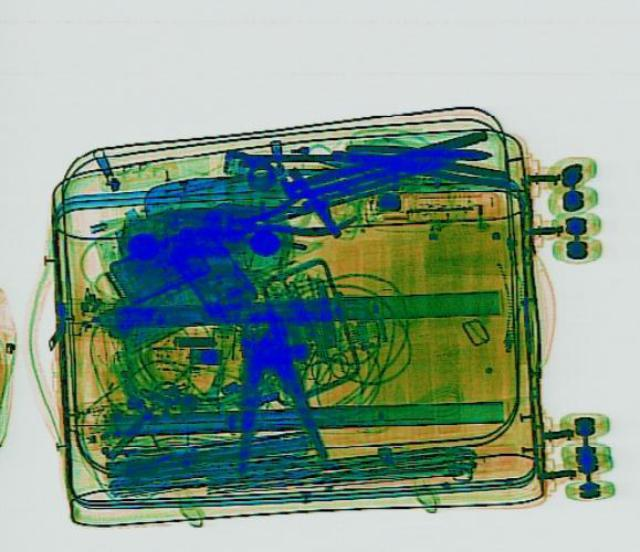Pliers: (214, 310, 326, 477), (207, 181, 356, 254), (328, 132, 510, 187)
